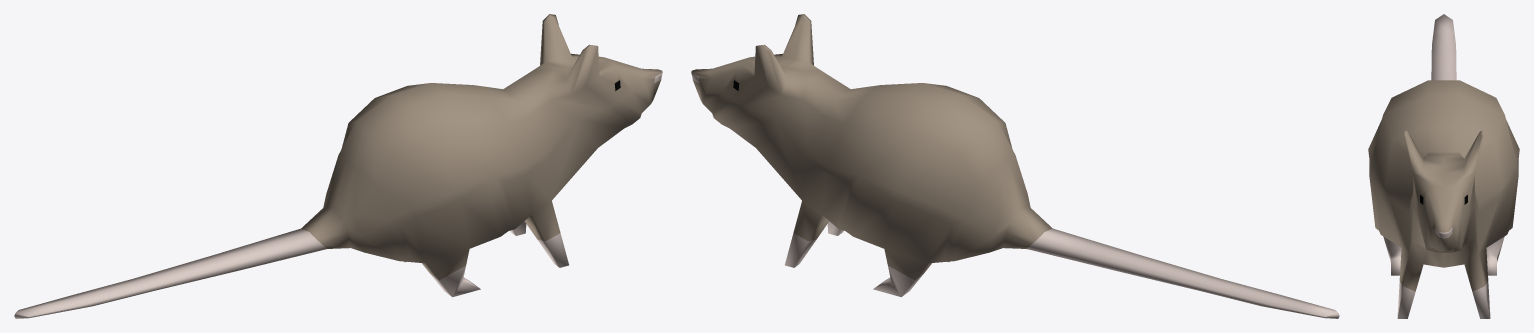
File: rat.fbx
3 views of the same model, side by side, from view 1: azimuth 30°, elevation 25°; view 2: azimuth 150°, elevation 25°; view 3: azimuth 270°, elevation 25° (orthographic). The views are drawn at different scales.
Visible parts, largest first — view 1: Mouse; view 2: Mouse; view 3: Mouse.
Boxes of the visible parts, box(x1,y1,x2,y2) form: Mouse: box(14, 14, 662, 318); Mouse: box(691, 14, 1339, 318); Mouse: box(1368, 14, 1519, 318).
Size of the model in its own units: 281 by 87.89 by 60.12.
